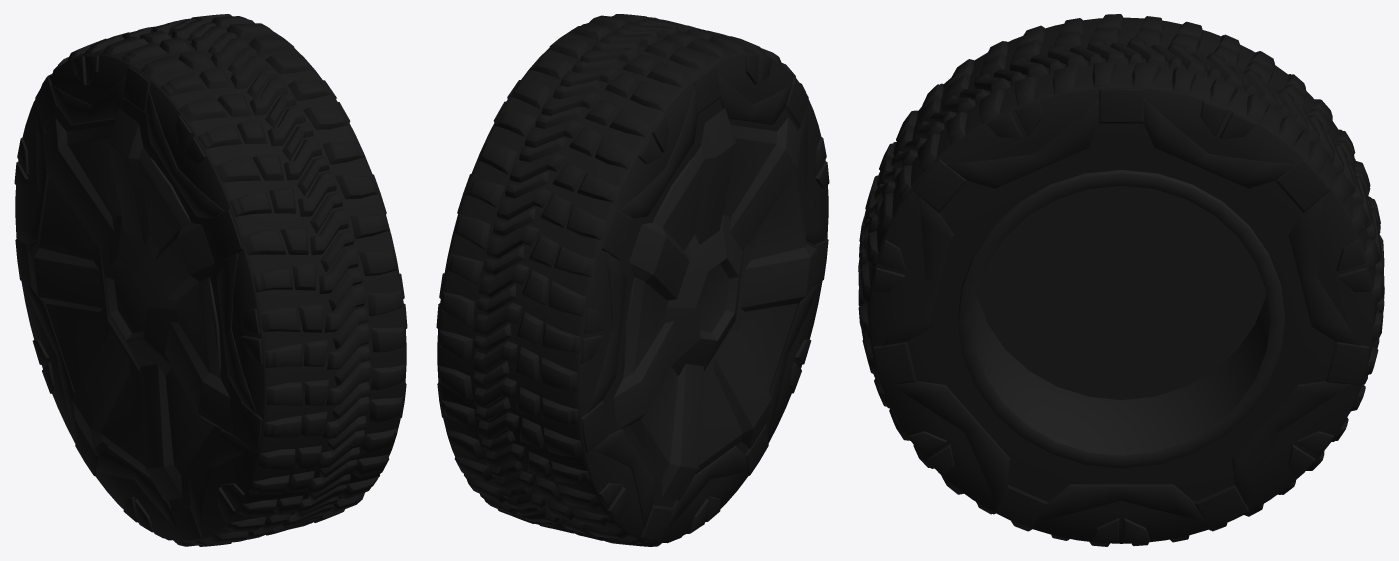
Rendered from LDD.obj.
The picture shows the model from 3 angles, left to right: view 1: azimuth 30°, elevation 25°; view 2: azimuth 150°, elevation 25°; view 3: azimuth 270°, elevation 25°; orthographic projection.
Visible parts, largest first — view 1: LDD; view 2: LDD; view 3: LDD.
Boxes of the visible parts, box(x1,y1,x2,y2) form: LDD: box(14, 14, 407, 546); LDD: box(436, 14, 829, 546); LDD: box(858, 14, 1384, 546).
Bounding box in the file's own units: 0.4184 × 1.08 × 1.08.
Materials: 1 (1 with a texture image).
